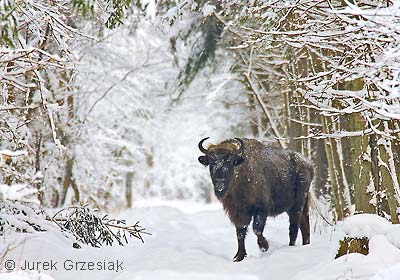zubr: (188, 130, 334, 256)
